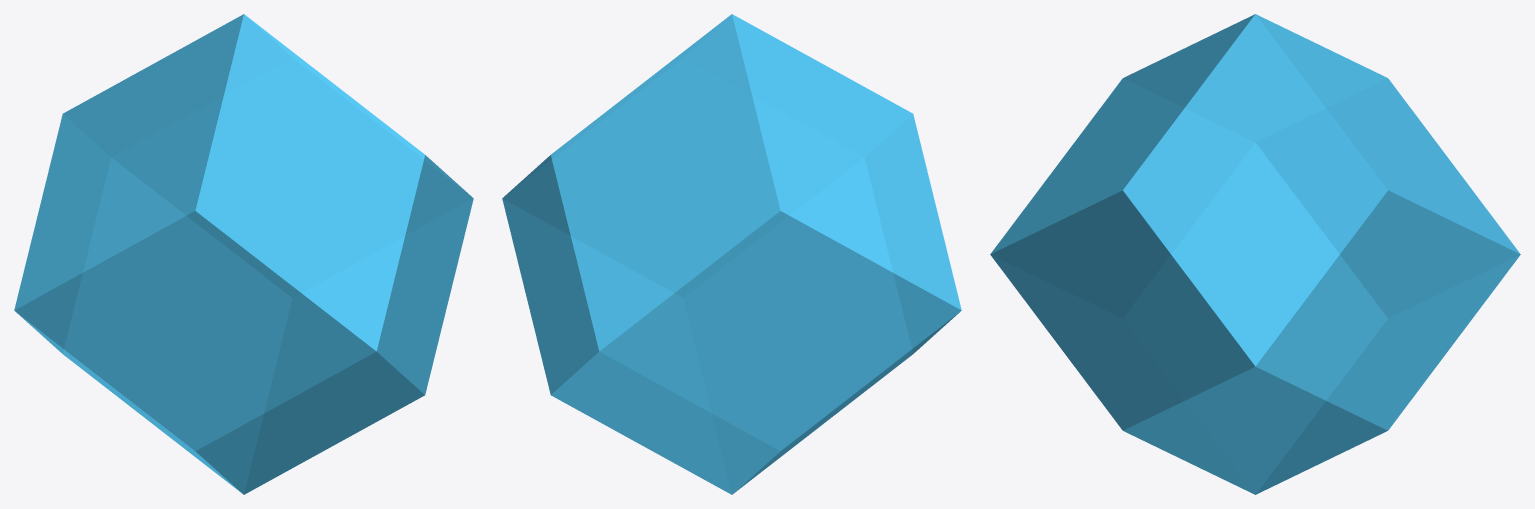
File: RhombicDodecahedron.obj
3 renders of one model, left to right at view 1: azimuth 30°, elevation 25°; view 2: azimuth 150°, elevation 25°; view 3: azimuth 270°, elevation 25°, orthographic.
Bounding box in the file's own units: 2.12 × 2.12 × 2.12.
